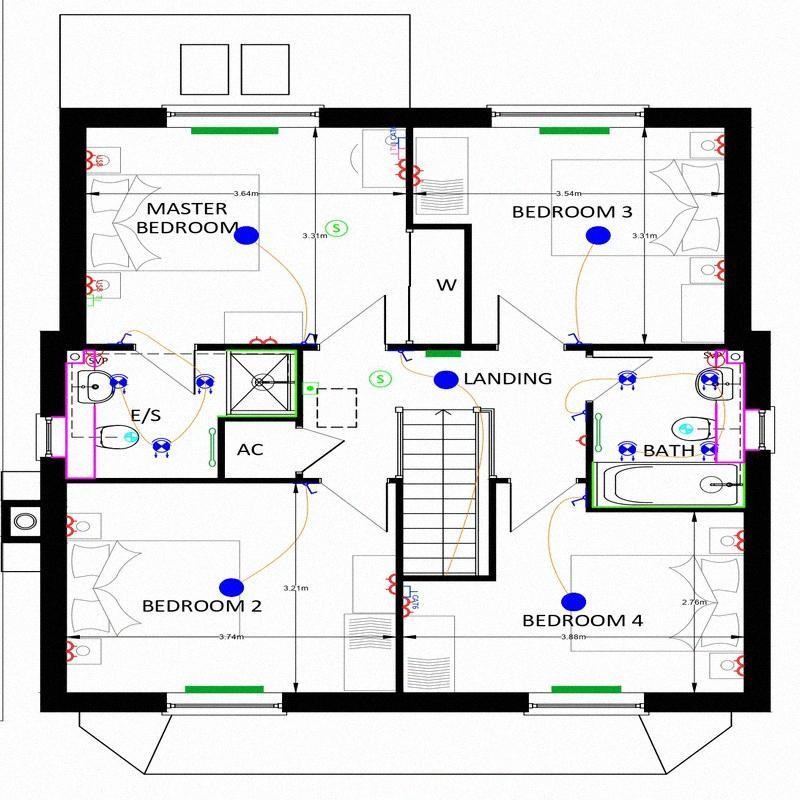Cat 6 Data Socket: (403, 586, 419, 610), (390, 127, 406, 149)
Ceiling Mounted Continuous Extract FanWith Boost Mode Activated By Light Switch: (679, 423, 693, 433), (125, 432, 137, 442)
Double Socket: (249, 335, 276, 344), (713, 134, 724, 156), (412, 166, 424, 186), (385, 574, 396, 595), (66, 516, 77, 536), (714, 260, 725, 280), (733, 531, 744, 550), (395, 160, 406, 179), (403, 598, 413, 618), (67, 642, 77, 662), (734, 656, 743, 675)
Full Height Tiling: (592, 463, 745, 508), (218, 350, 296, 416)
Light Switch: (571, 410, 586, 423), (301, 483, 317, 494), (118, 333, 132, 344), (572, 496, 586, 507), (568, 333, 583, 343), (302, 332, 314, 344), (399, 351, 412, 362)
Low Energy Downlighter: (151, 437, 173, 458), (109, 373, 128, 395), (617, 441, 637, 461), (618, 370, 637, 391), (195, 374, 214, 394), (701, 370, 719, 391), (701, 441, 718, 461)
Low Energy Pendant Light: (233, 225, 259, 245), (433, 370, 459, 389), (219, 578, 244, 597), (562, 593, 586, 612), (587, 226, 610, 245)
Mains Wired Smoke Detector: (324, 219, 348, 237), (369, 371, 392, 387)
Programmable Room Thermostat: (304, 382, 319, 395)
Radiator: (191, 128, 278, 135), (551, 686, 621, 694), (540, 127, 609, 135), (185, 686, 263, 693), (425, 350, 460, 359)
Shaver Socket: (84, 350, 105, 372), (705, 350, 725, 370)
Single Socket: (574, 435, 586, 447)
Telephone Socket: (390, 143, 405, 160), (86, 294, 102, 306)
USB Double Socket: (87, 150, 102, 170), (86, 276, 102, 294)
